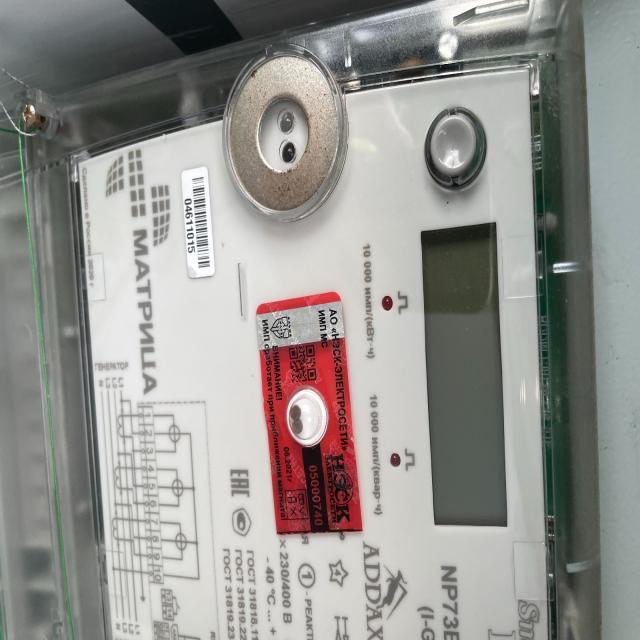Display: (413, 222, 511, 526)
meter_matrica: (4, 64, 640, 640)
meter_number: (179, 165, 212, 279)
seal_imp: (255, 293, 364, 539)
